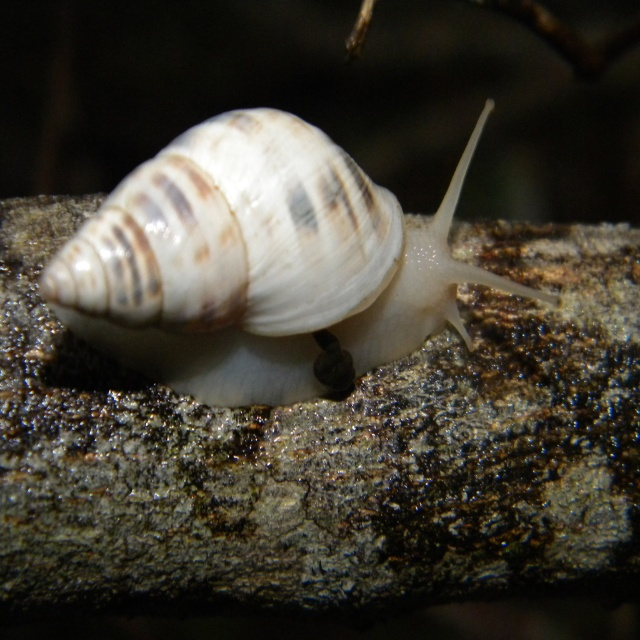Snail: (33, 99, 566, 412)
